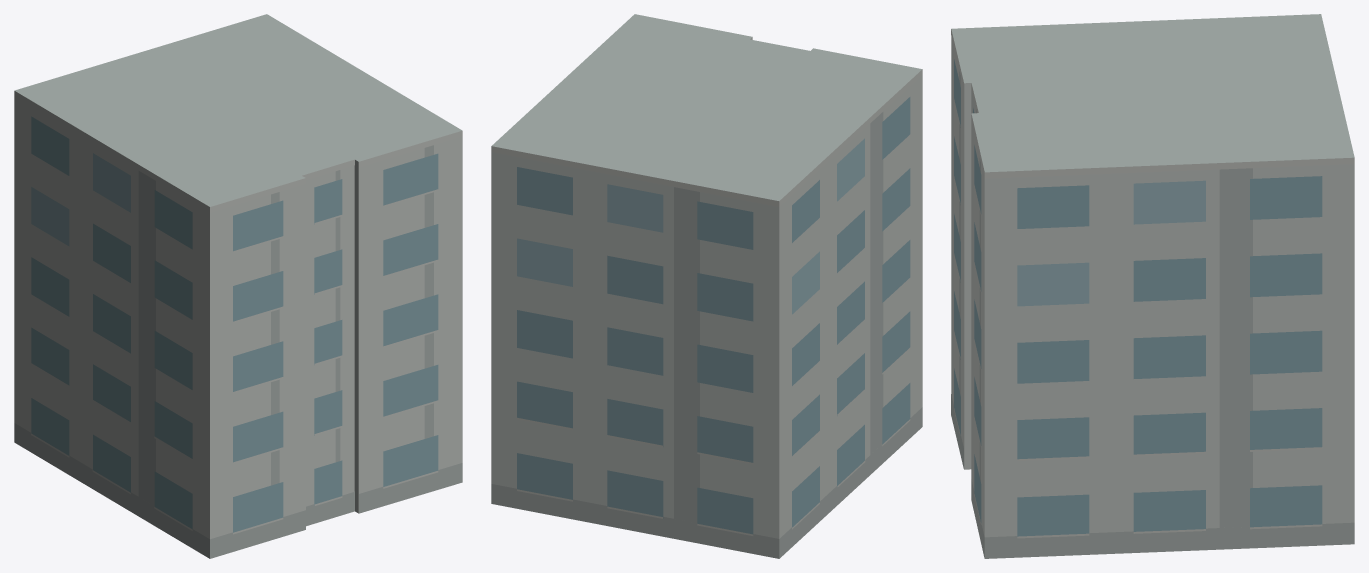
File: survey-upis-32638641.glb
The picture shows the model from 3 angles, left to right: view 1: azimuth 30°, elevation 25°; view 2: azimuth 150°, elevation 25°; view 3: azimuth 270°, elevation 25°; orthographic projection. The views are drawn at different scales.
Parts seen in each view (by area): view 1: survey-upis-32638641.tmp; view 2: survey-upis-32638641.tmp; view 3: survey-upis-32638641.tmp.
Boxes of the visible parts, x1,y1,x2,y2 form: survey-upis-32638641.tmp: [14, 14, 462, 558]; survey-upis-32638641.tmp: [491, 14, 922, 558]; survey-upis-32638641.tmp: [951, 14, 1354, 558].
Bounding box in the file's own units: 12.75 × 14.5 × 13.73.
